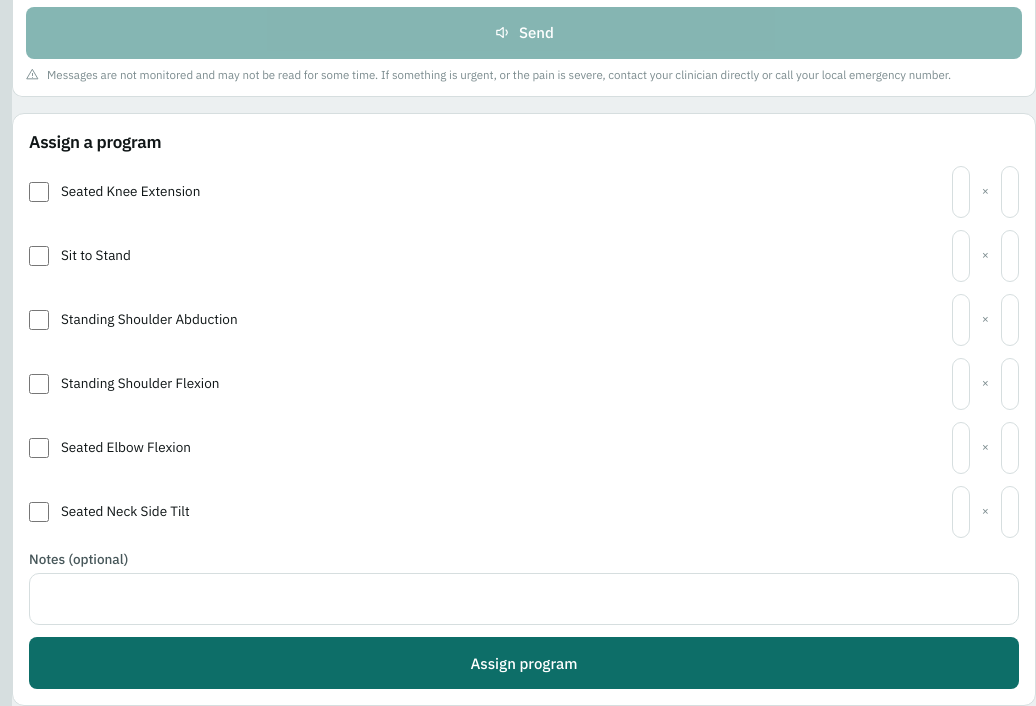
Scenario: PatientDetailScreen › requires at least one exercise before assigning
(page scrolled)
Click the button "Assign program": click(524, 664) [29,638,1019,690]
(page scrolled)
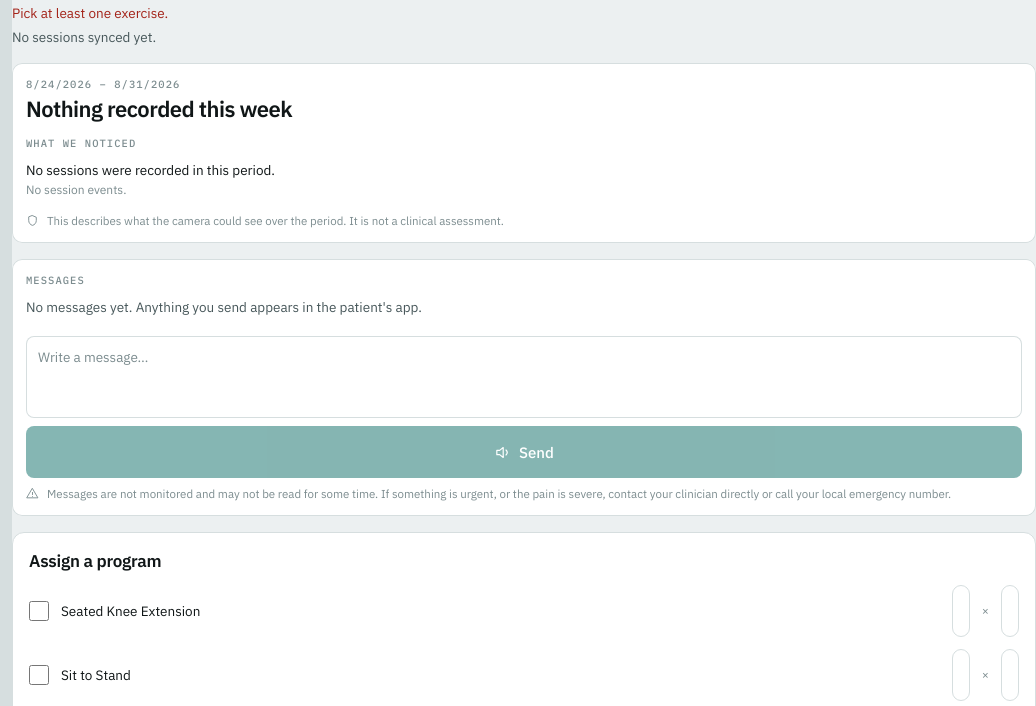
expect the text "Pick at least one exercise." is shown: met, box [12,4,168,22]
